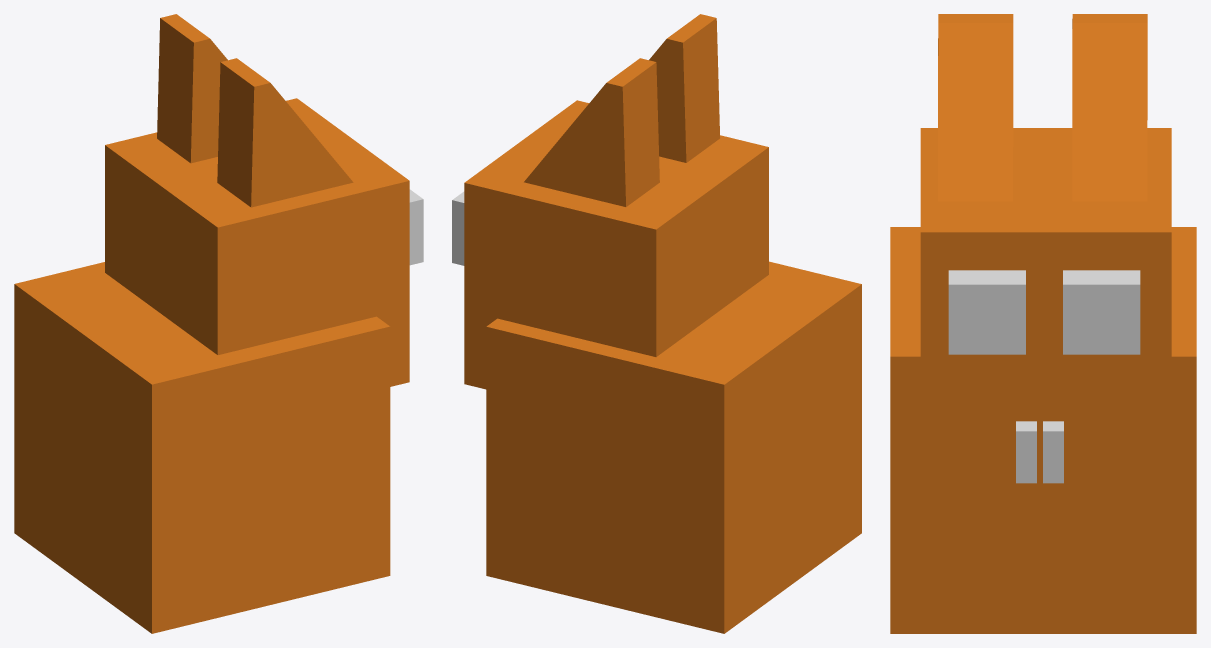
File: bunny.glb
The picture shows the model from 3 angles, left to right: view 1: azimuth 30°, elevation 25°; view 2: azimuth 150°, elevation 25°; view 3: azimuth 270°, elevation 25°; orthographic projection. The views are drawn at different scales.
Visible parts, largest first — view 1: Cube, Cube.001, Cube.006, Cube.007, Cube.002; view 2: Cube, Cube.001, Cube.007, Cube.006, Cube.003; view 3: Cube, Cube.001, Cube.007, Cube.006, Cube.002, Cube.003, Cube.004, Cube.005.
Boxes of the visible parts, left/top/right/bottom form: Cube: left=14, top=262, right=390, bottom=633; Cube.001: left=105, top=98, right=409, bottom=386; Cube.006: left=217, top=58, right=353, bottom=207; Cube.007: left=157, top=14, right=227, bottom=163; Cube.002: left=409, top=189, right=423, bottom=265; Cube: left=486, top=261, right=861, bottom=633; Cube.001: left=464, top=100, right=768, bottom=389; Cube.007: left=524, top=58, right=659, bottom=206; Cube.006: left=649, top=14, right=719, bottom=162; Cube.003: left=452, top=191, right=464, bottom=265; Cube: left=890, top=227, right=1196, bottom=633; Cube.001: left=920, top=128, right=1171, bottom=456; Cube.007: left=1072, top=14, right=1147, bottom=201; Cube.006: left=938, top=14, right=1013, bottom=201; Cube.002: left=948, top=270, right=1025, bottom=354; Cube.003: left=1063, top=270, right=1140, bottom=354; Cube.004: left=1016, top=421, right=1036, bottom=483; Cube.005: left=1043, top=421, right=1063, bottom=483.
Bounding box in the file's own units: 2.5 × 4.02 × 2.
